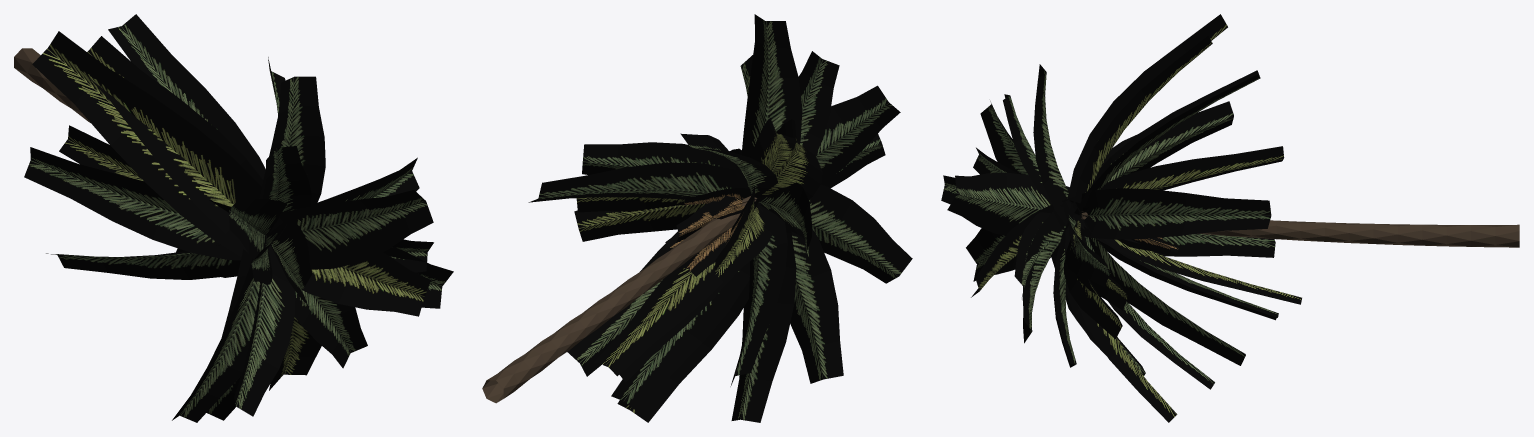
File: SM_Plant_DatePalm_A.obj
The picture shows the model from 3 angles, left to right: view 1: azimuth 30°, elevation 25°; view 2: azimuth 150°, elevation 25°; view 3: azimuth 270°, elevation 25°; orthographic projection. The views are drawn at different scales.
Parts seen in each view (by area): view 1: SM_Plant_DatePalm_A; view 2: SM_Plant_DatePalm_A; view 3: SM_Plant_DatePalm_A.
Part boxes in pixels (x1,y1,x2,y2): SM_Plant_DatePalm_A: (14,14,453,422); SM_Plant_DatePalm_A: (482,14,912,422); SM_Plant_DatePalm_A: (941,14,1519,422).
Size of the model in its own units: 648 by 741 by 1188.
Materials: 2 (1 with a texture image).
